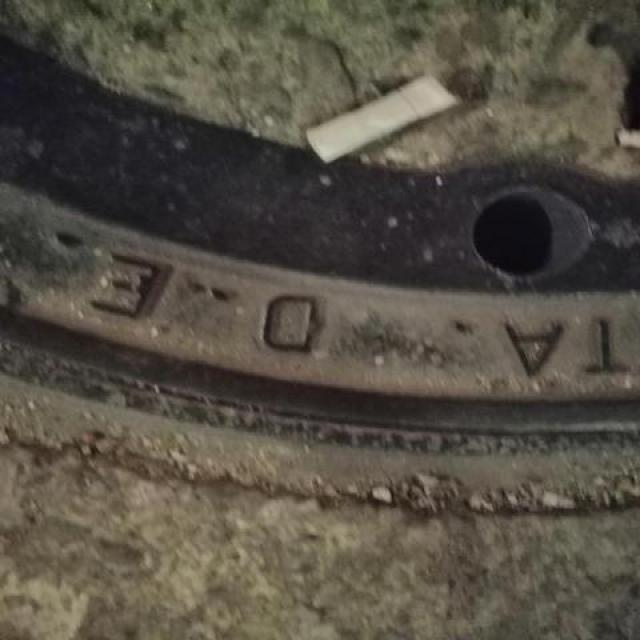non-organic waste: (299, 63, 461, 172)
